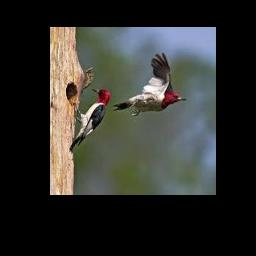Woodpecker: (113, 53, 187, 116), (69, 88, 111, 152)
